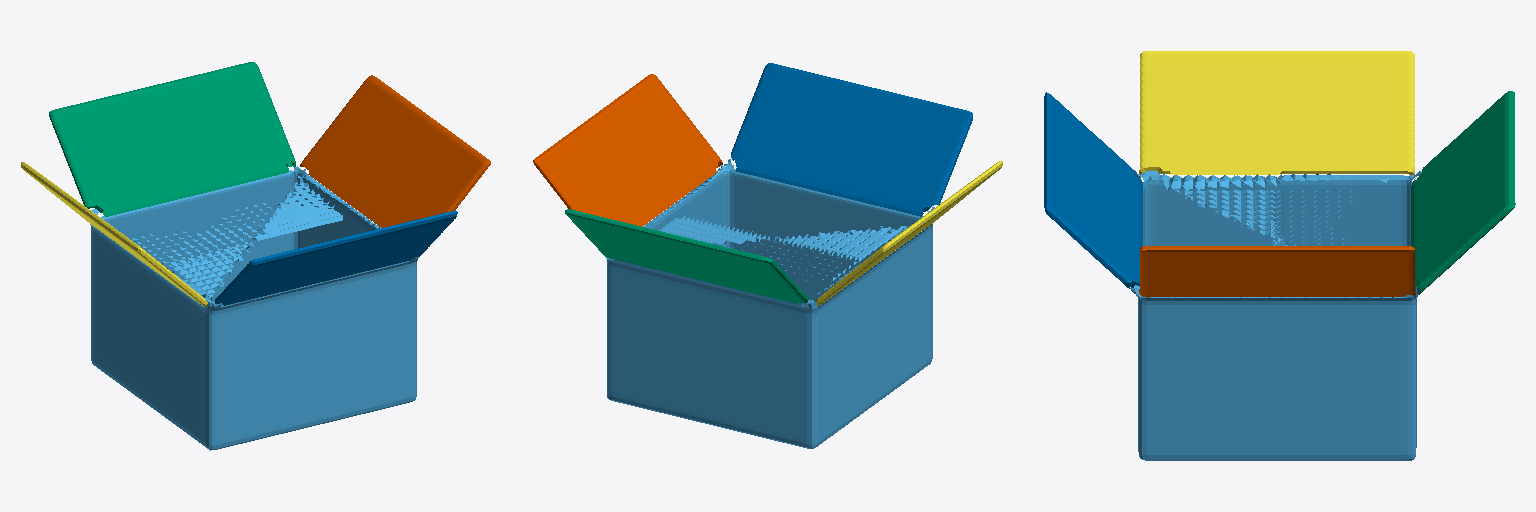
The robot description file, URDF, robot "object":
<?xml version='1.0' encoding='utf-8'?>
<robot name="object">
  <link name="base">
    <inertial>
      <origin xyz="0 0 0" rpy="0 0 0" />
      <mass value="0.0" />
      <inertia ixx="0" ixy="0" ixz="0" iyy="0" iyz="0" izz="0" />
    </inertial>
  </link>
  <link name="link_1">
    <visual>
      <origin xyz="0 0 0" rpy="0 0 0" />
      <geometry>
        <mesh filename="meshes/link_1.stl" />
      </geometry>
    </visual>
    <collision>
      <origin xyz="0 0 0" rpy="0 0 0" />
      <geometry>
        <mesh filename="meshes/link_1.stl" />
      </geometry>
    </collision>
    <inertial>
      <origin xyz="0.0181800649 0.0217973302 -0.208280781" rpy="0 0 0" />
      <mass value="58.1688681" />
      <inertia ixx="11.8984811" ixy="0.0245902534" ixz="0.253002061" iyy="11.0560131" iyz="0.0225903306" izz="15.5902267" />
    </inertial>
  </link>
  <link name="link_2">
    <visual>
      <origin xyz="0.00778515111 -0.496406082 -0.183755099" rpy="0 0 0" />
      <geometry>
        <mesh filename="meshes/link_2.stl" />
      </geometry>
    </visual>
    <collision>
      <origin xyz="0.00778515111 -0.496406082 -0.183755099" rpy="0 0 0" />
      <geometry>
        <mesh filename="meshes/link_2.stl" />
      </geometry>
    </collision>
    <inertial>
      <origin xyz="0.0289627703 0.244091798 0.311989049" rpy="0 0 0" />
      <mass value="10.4713085" />
      <inertia ixx="-0.389974867" ixy="0.0356852477" ixz="0.0453661882" iyy="0.274119551" iyz="-0.430061382" izz="0.847416873" />
    </inertial>
  </link>
  <link name="link_3">
    <visual>
      <origin xyz="0.48004269 -0.0142718519 -0.188925367" rpy="0 0 0" />
      <geometry>
        <mesh filename="meshes/link_3.stl" />
      </geometry>
    </visual>
    <collision>
      <origin xyz="0.48004269 -0.0142718519 -0.188925367" rpy="0 0 0" />
      <geometry>
        <mesh filename="meshes/link_3.stl" />
      </geometry>
    </collision>
    <inertial>
      <origin xyz="-0.153419791 0.00520606861 0.153560753" rpy="0 0 0" />
      <mass value="11.3750133" />
      <inertia ixx="0.902039202" ixy="0.00146373821" ixz="0.0886626157" iyy="0.178897976" iyz="-0.00110763357" izz="0.901839798" />
    </inertial>
  </link>
  <link name="link_4">
    <visual>
      <origin xyz="0.00473737675 0.470997736 -0.179167553" rpy="0 0 0" />
      <geometry>
        <mesh filename="meshes/link_4.stl" />
      </geometry>
    </visual>
    <collision>
      <origin xyz="0.00473737675 0.470997736 -0.179167553" rpy="0 0 0" />
      <geometry>
        <mesh filename="meshes/link_4.stl" />
      </geometry>
    </collision>
    <inertial>
      <origin xyz="0.00160060411 -0.263000478 0.371358956" rpy="0 0 0" />
      <mass value="9.20869483" />
      <inertia ixx="-1.00645312" ixy="0.00464052147" ixz="0.0153096386" iyy="-0.363657831" iyz="0.837518605" izz="0.698595935" />
    </inertial>
  </link>
  <link name="link_5">
    <visual>
      <origin xyz="-0.478248808 -0.0245179094 -0.18704289" rpy="0 0 0" />
      <geometry>
        <mesh filename="meshes/link_5.stl" />
      </geometry>
    </visual>
    <collision>
      <origin xyz="-0.478248808 -0.0245179094 -0.18704289" rpy="0 0 0" />
      <geometry>
        <mesh filename="meshes/link_5.stl" />
      </geometry>
    </collision>
    <inertial>
      <origin xyz="0.159452665 -0.00429862766 0.159469278" rpy="0 0 0" />
      <mass value="11.8225143" />
      <inertia ixx="0.943313249" ixy="0.000161557591" ixz="-0.0997307135" iyy="0.201143905" iyz="0.00017197487" izz="0.944115021" />
    </inertial>
  </link>
  <joint name="joint_1_2" type="revolute">
    <parent link="link_1" />
    <child link="link_2" />
    <origin xyz="-0.00778515111 0.496406082 0.183755099" rpy="0 0 0" />
    <axis xyz="-0.999996532 -0.00102370551 0.00242665651" />
    <limit lower="-1.57" upper="1.57" effort="10.0" velocity="1.0" />
  </joint>
  <joint name="joint_1_3" type="revolute">
    <parent link="link_1" />
    <child link="link_3" />
    <origin xyz="-0.48004269 0.0142718519 0.188925367" rpy="0 0 0" />
    <axis xyz="-0.000866184792 0.999998743 -0.00132815786" />
    <limit lower="-1.57" upper="1.57" effort="10.0" velocity="1.0" />
  </joint>
  <joint name="joint_1_4" type="revolute">
    <parent link="link_1" />
    <child link="link_4" />
    <origin xyz="-0.00473737675 -0.470997736 0.179167553" rpy="0 0 0" />
    <axis xyz="-0.99972967 0.0230048523 0.00337098563" />
    <limit lower="-1.57" upper="1.57" effort="10.0" velocity="1.0" />
  </joint>
  <joint name="joint_1_5" type="revolute">
    <parent link="link_1" />
    <child link="link_5" />
    <origin xyz="0.478248808 0.0245179094 0.18704289" rpy="0 0 0" />
    <axis xyz="-0.000327651363 0.999999384 0.00106038505" />
    <limit lower="-1.57" upper="1.57" effort="10.0" velocity="1.0" />
  </joint>
  <joint name="base_to_1" type="fixed">
    <parent link="base" />
    <child link="link_1" />
    <origin xyz="0 0 0" rpy="0 0 0" />
  </joint>
</robot>

--- What the picture shows (computed from the rendered views, not written in the file) ---
3 views of the same robot in one strip: view 1: azimuth 30°, elevation 25°; view 2: azimuth 150°, elevation 25°; view 3: azimuth 270°, elevation 25° (orthographic).
Model object with 6 links and 5 joints (4 revolute, 1 fixed), rooted at base, posed all joints at 0.
Visible links, largest first — view 1: link_1, link_2, link_5, link_4, link_3; view 2: link_1, link_4, link_5, link_2, link_3; view 3: link_1, link_3, link_5, link_2, link_4.
Link boxes in pixels (x1,y1,x2,y2): link_1: (90,166,418,450); link_2: (49,62,295,216); link_5: (300,75,490,227); link_4: (215,210,457,305); link_3: (21,162,207,306); link_1: (606,159,934,448); link_4: (731,63,972,216); link_5: (533,74,722,226); link_2: (565,209,808,303); link_3: (816,160,1002,306); link_1: (1130,170,1421,460); link_3: (1139,51,1414,175); link_5: (1139,246,1415,296); link_2: (1411,91,1515,294); link_4: (1044,92,1142,288).
Bounding box of the posed robot: 1.6 × 1.6 × 0.9606 m (x, y, z).
5 mesh visuals loaded from 5 distinct referenced files (5 binary STL).
